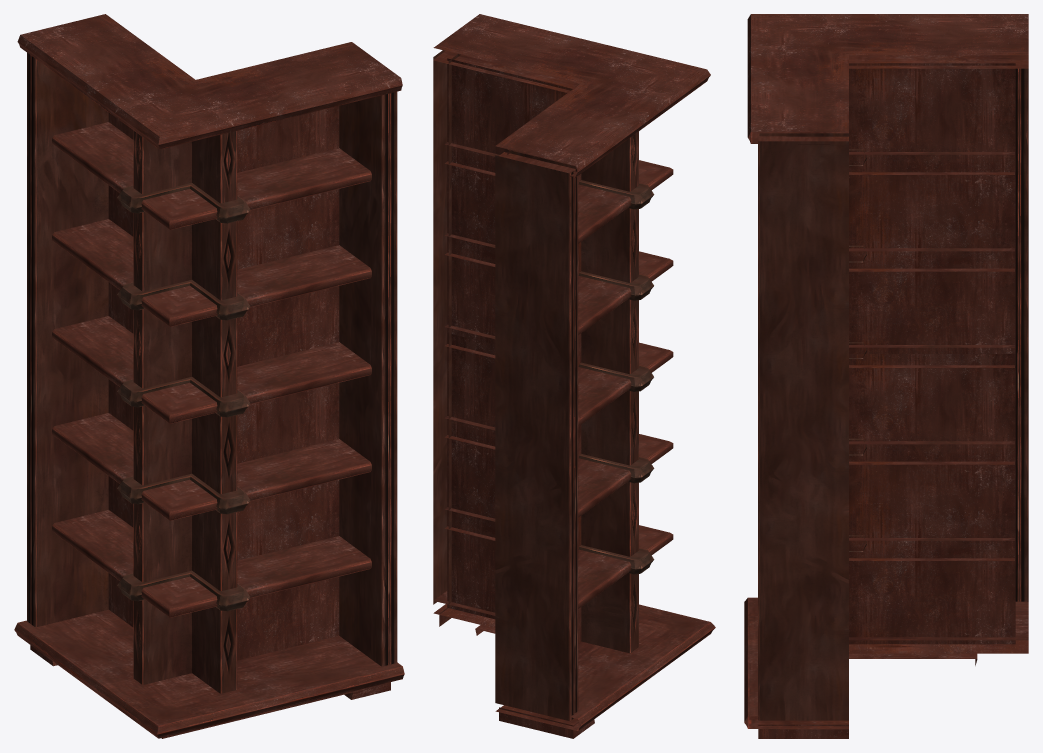
File: book_maze_G.fbx
3 renders of one model, left to right at view 1: azimuth 30°, elevation 25°; view 2: azimuth 150°, elevation 25°; view 3: azimuth 270°, elevation 25°, orthographic. The views are drawn at different scales.
Visible parts, largest first — view 1: book_maze_G; view 2: book_maze_G; view 3: book_maze_G.
Part boxes in pixels (x1,y1,x2,y2): book_maze_G: (14, 14, 404, 738); book_maze_G: (433, 14, 715, 738); book_maze_G: (744, 14, 1028, 738).
Bounding box in the file's own units: 158 × 375 × 158.
